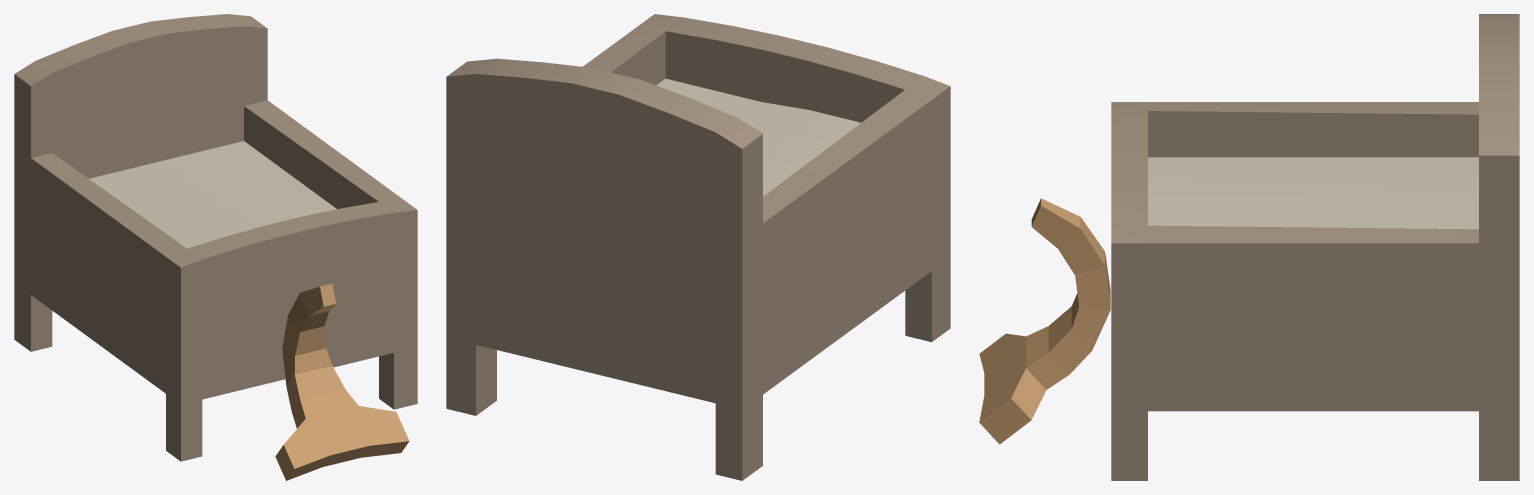
Rendered from Crib_Broken.FBX.
3 renders of one model, left to right at view 1: azimuth 30°, elevation 25°; view 2: azimuth 150°, elevation 25°; view 3: azimuth 270°, elevation 25°, orthographic. The views are drawn at different scales.
Parts seen in each view (by area): view 1: Box065; view 2: Box065; view 3: Box065.
Part boxes in pixels (<box>): Box065: <box>14,14,417,480</box>; Box065: <box>446,14,950,480</box>; Box065: <box>979,14,1519,480</box>.
Bounding box in the file's own units: 41.75 × 48.13 × 67.38.
